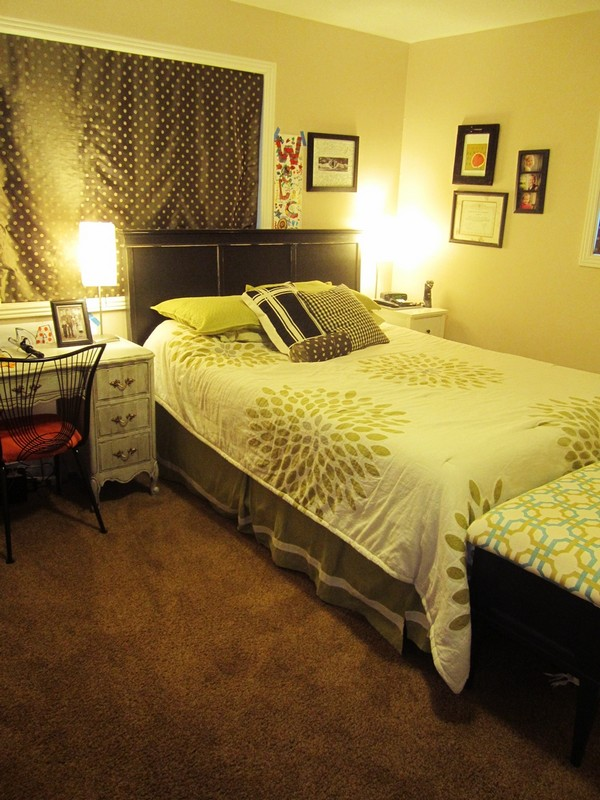bed: (121, 222, 599, 703)
chair: (5, 345, 107, 546)
lamp: (76, 216, 124, 331)
table: (5, 318, 160, 498)
